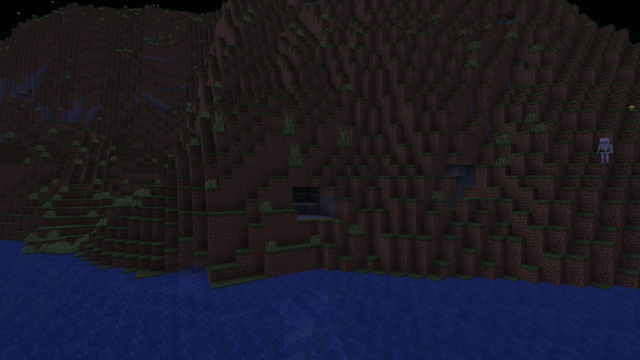creepers: (186, 101, 190, 112)
squelettes: (598, 137, 611, 162)
